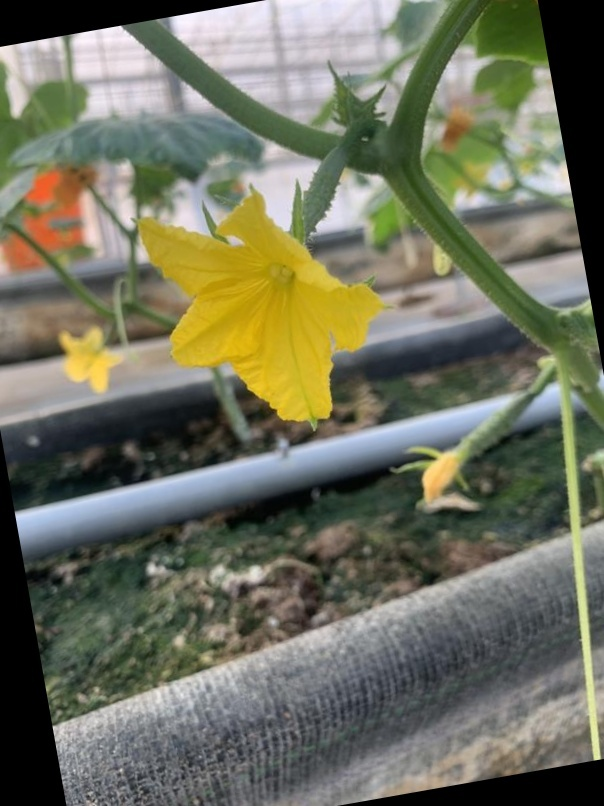flowering: (124, 133, 408, 443)
